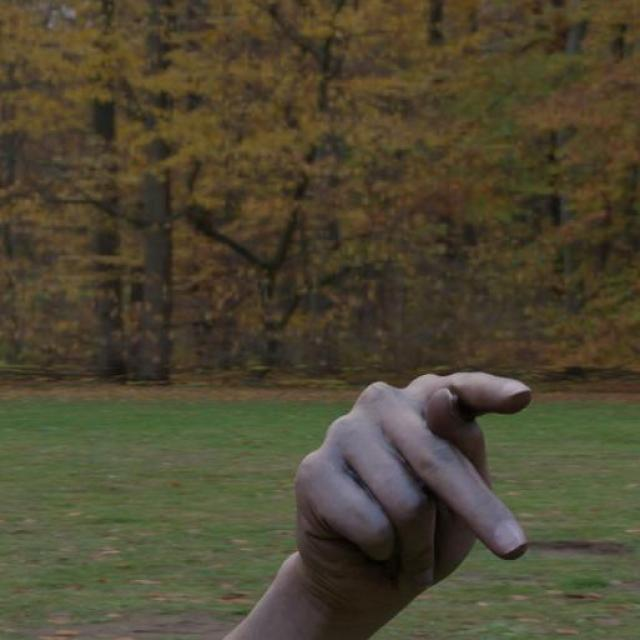P: (290, 368, 540, 628)
